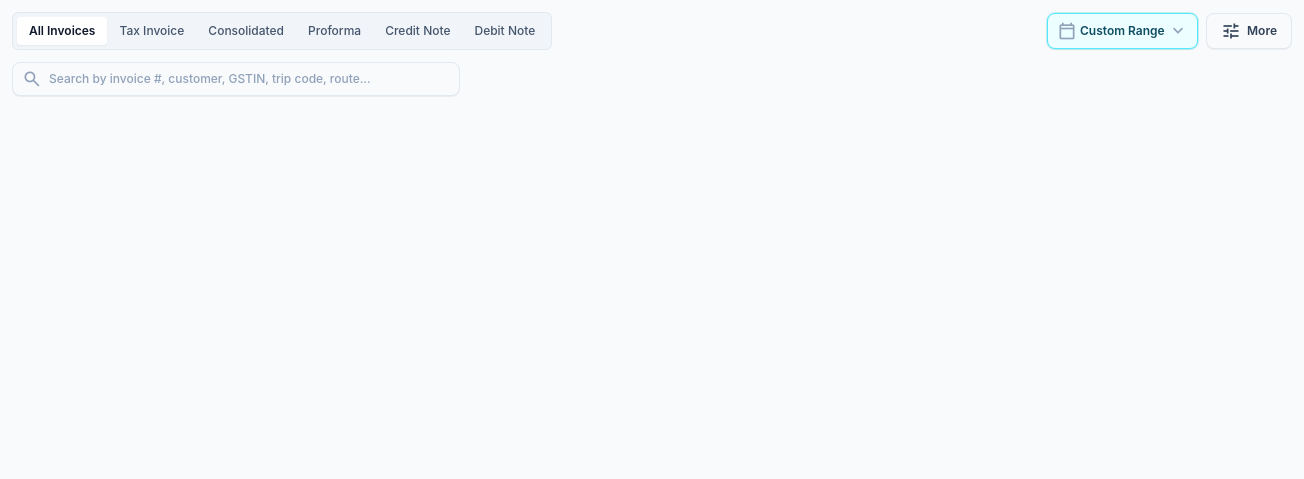
Test case: InvoiceToolbar › renders current custom date values
Click the button with aria-label "More Filters" at x=1249, y=31, box [1206,13,1292,49]
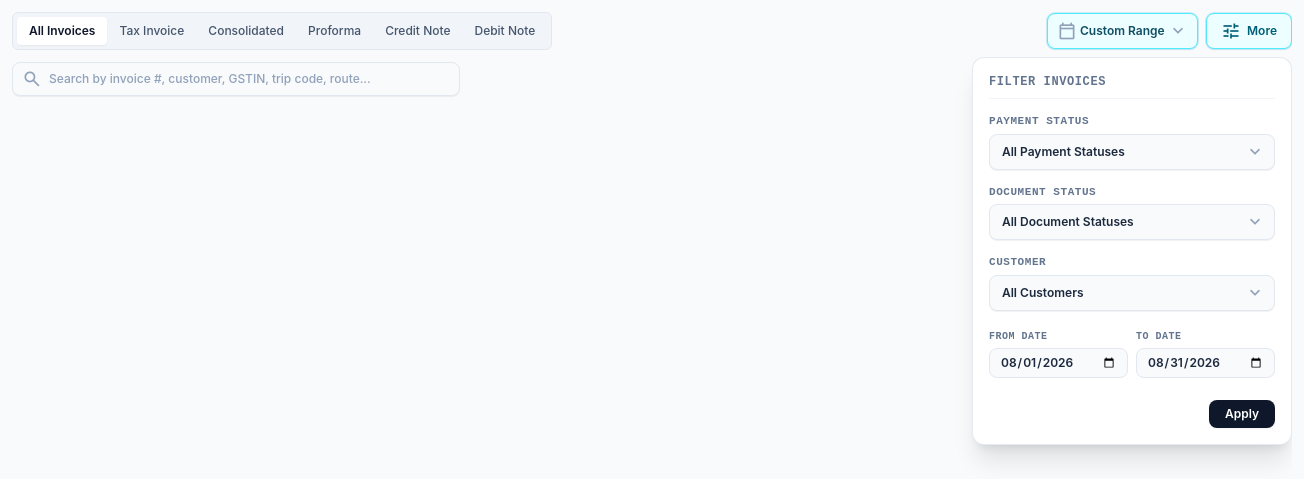
Now the date field showing "2026-08-01" below "From Date" is shown, box [989,348,1128,378]
Now the date field showing "2026-08-31" below "To Date" is shown, box [1136,348,1275,378]
